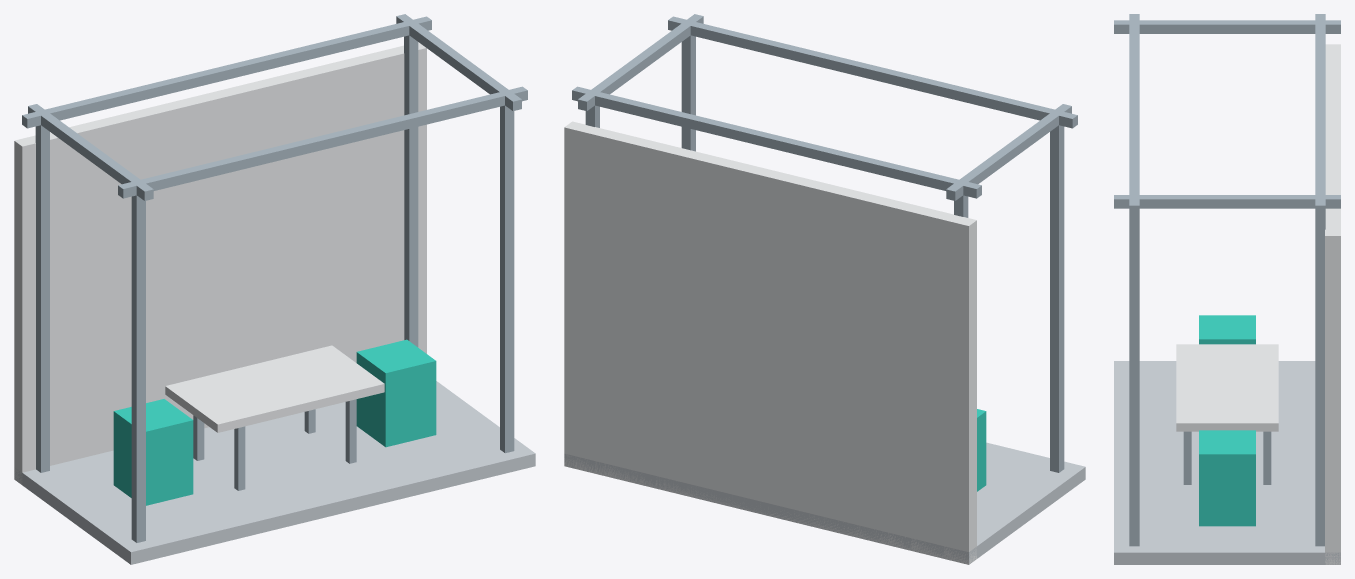
3 views of the same model, side by side, from view 1: azimuth 30°, elevation 25°; view 2: azimuth 150°, elevation 25°; view 3: azimuth 270°, elevation 25° (orthographic). The views are drawn at different scales.
Visible parts, largest first — view 1: Exhibition Booth Concept; view 2: Exhibition Booth Concept; view 3: Exhibition Booth Concept.
Part boxes in pixels (box(x1,y1,x2,y2)): Exhibition Booth Concept: box(14, 14, 535, 564); Exhibition Booth Concept: box(564, 14, 1085, 564); Exhibition Booth Concept: box(1114, 14, 1340, 564).
Size of the model in its own units: 4 by 3.49 by 2.
